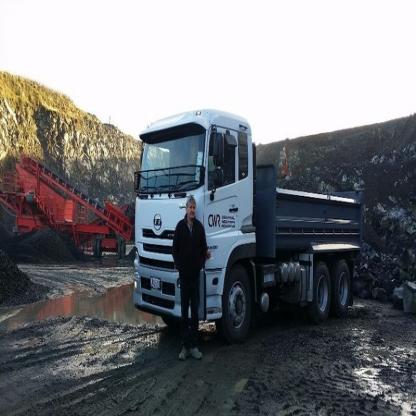dump_truck: (127, 89, 372, 360)
person: (169, 190, 211, 362)
